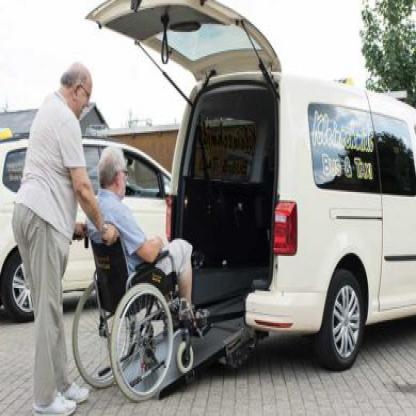wheelchair: (70, 141, 207, 395)
